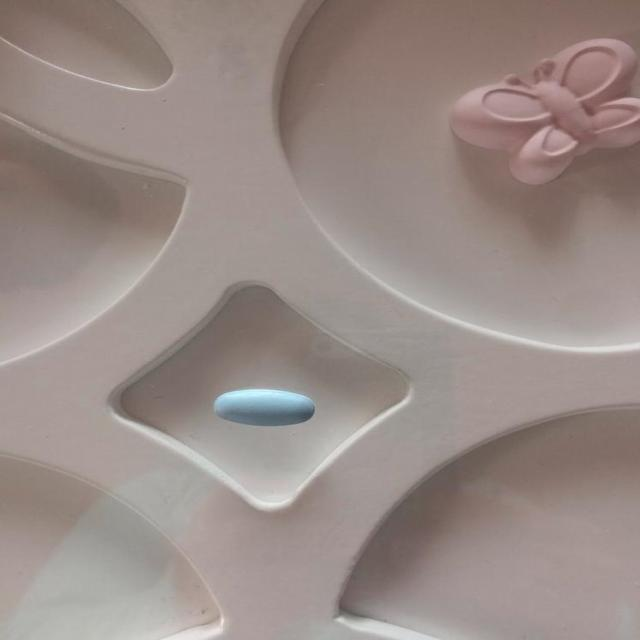pill: (210, 386, 318, 430)
